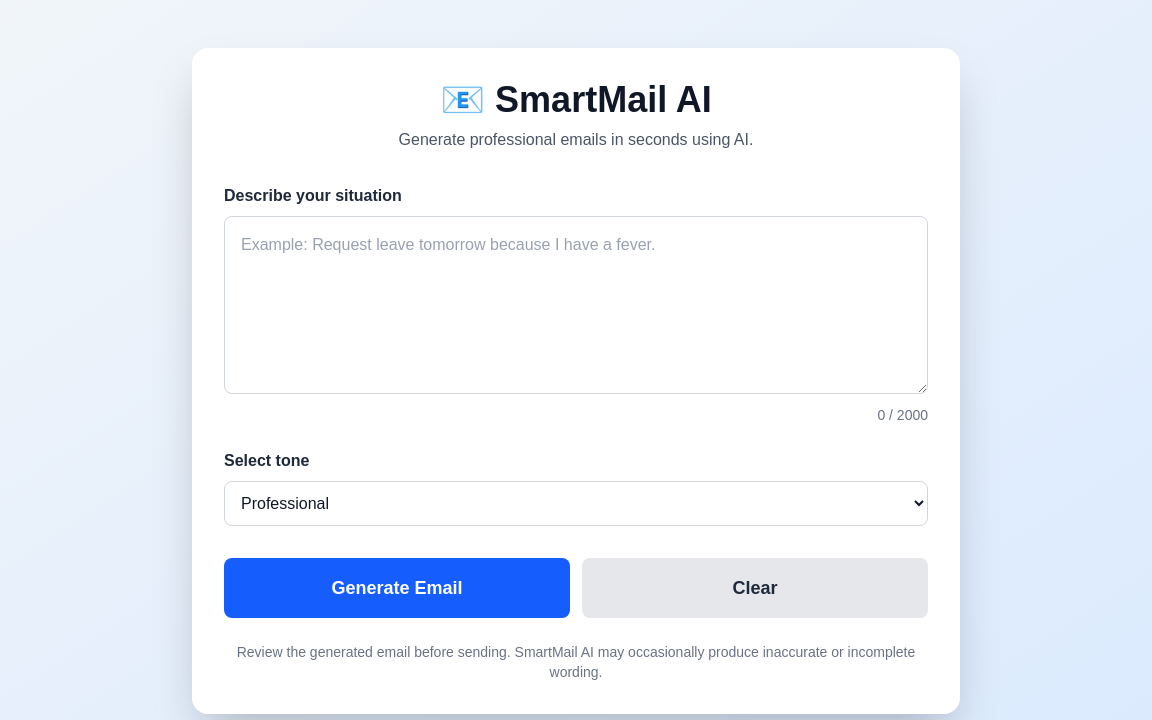
Test: SmartMail AI › shows an error when the situation is empty
This screenshot has width=1152, height=720.
Click the button "Generate Email": (397, 588) [224,558,570,618]
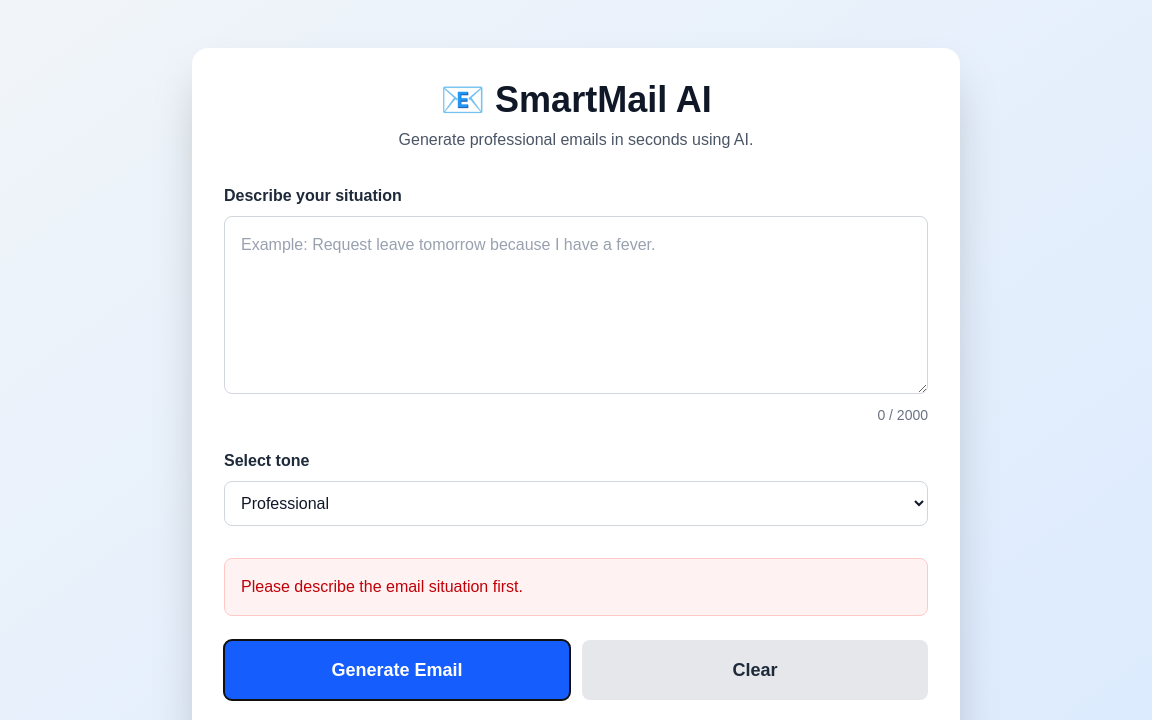
Expected: the text "Please describe the email situation first." is shown, [224,558,928,616]
